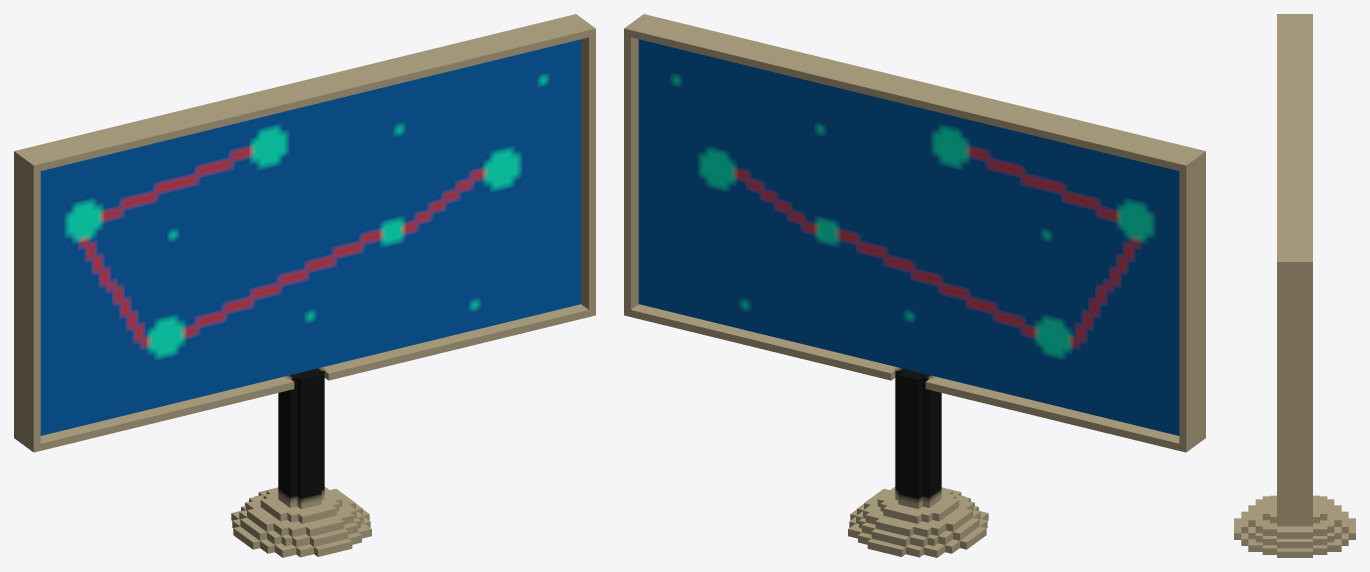
File: Lab-4-Monitor.fbx
3 renders of one model, left to right at view 1: azimuth 30°, elevation 25°; view 2: azimuth 150°, elevation 25°; view 3: azimuth 270°, elevation 25°, orthographic. The views are drawn at different scales.
Parts seen in each view (by area): view 1: Monitor; view 2: Monitor; view 3: Monitor.
Boxes of the visible parts, left/top/right/bottom form: Monitor: left=14, top=14, right=595, bottom=557; Monitor: left=624, top=14, right=1205, bottom=557; Monitor: left=1234, top=14, right=1355, bottom=557.
Bounding box in the file's own units: 82 × 61 × 17.
